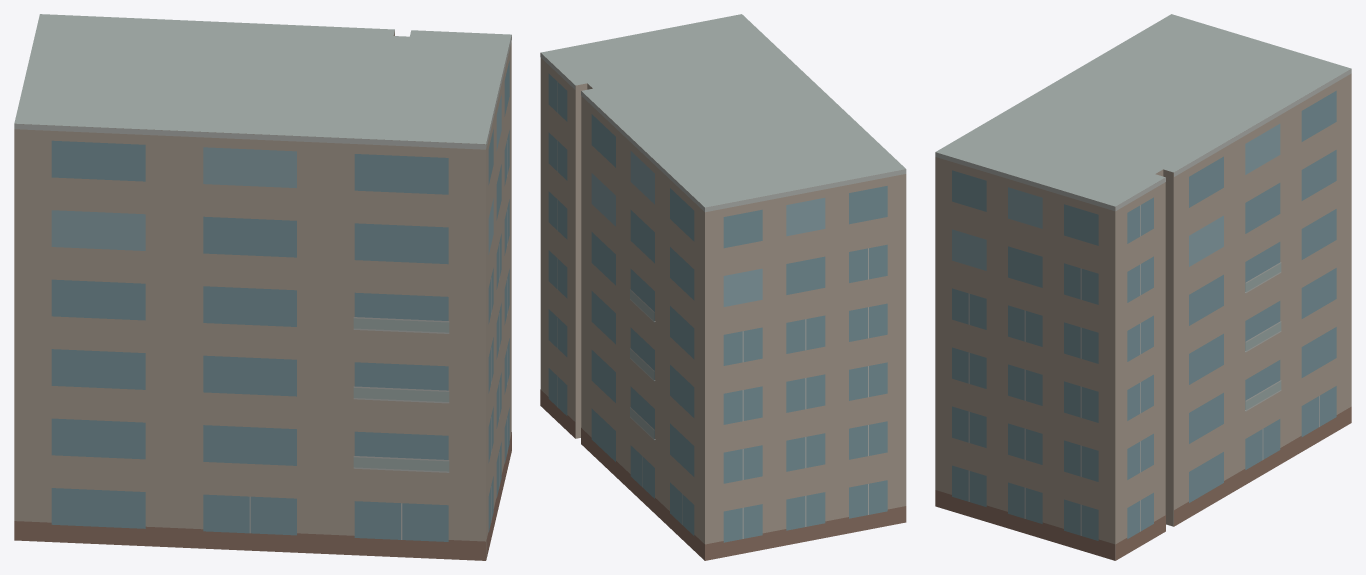
The model's file is survey-upis-32995745.glb.
3 views of the same model, side by side, from view 1: azimuth 30°, elevation 25°; view 2: azimuth 150°, elevation 25°; view 3: azimuth 270°, elevation 25° (orthographic). The views are drawn at different scales.
Visible parts, largest first — view 1: survey-upis-32995745.tmp; view 2: survey-upis-32995745.tmp; view 3: survey-upis-32995745.tmp.
Part boxes in pixels (x1,y1,x2,y2): survey-upis-32995745.tmp: (14,14,511,560); survey-upis-32995745.tmp: (540,14,906,560); survey-upis-32995745.tmp: (935,14,1351,560).
Bounding box in the file's own units: 21.35 × 18.3 × 19.5.
